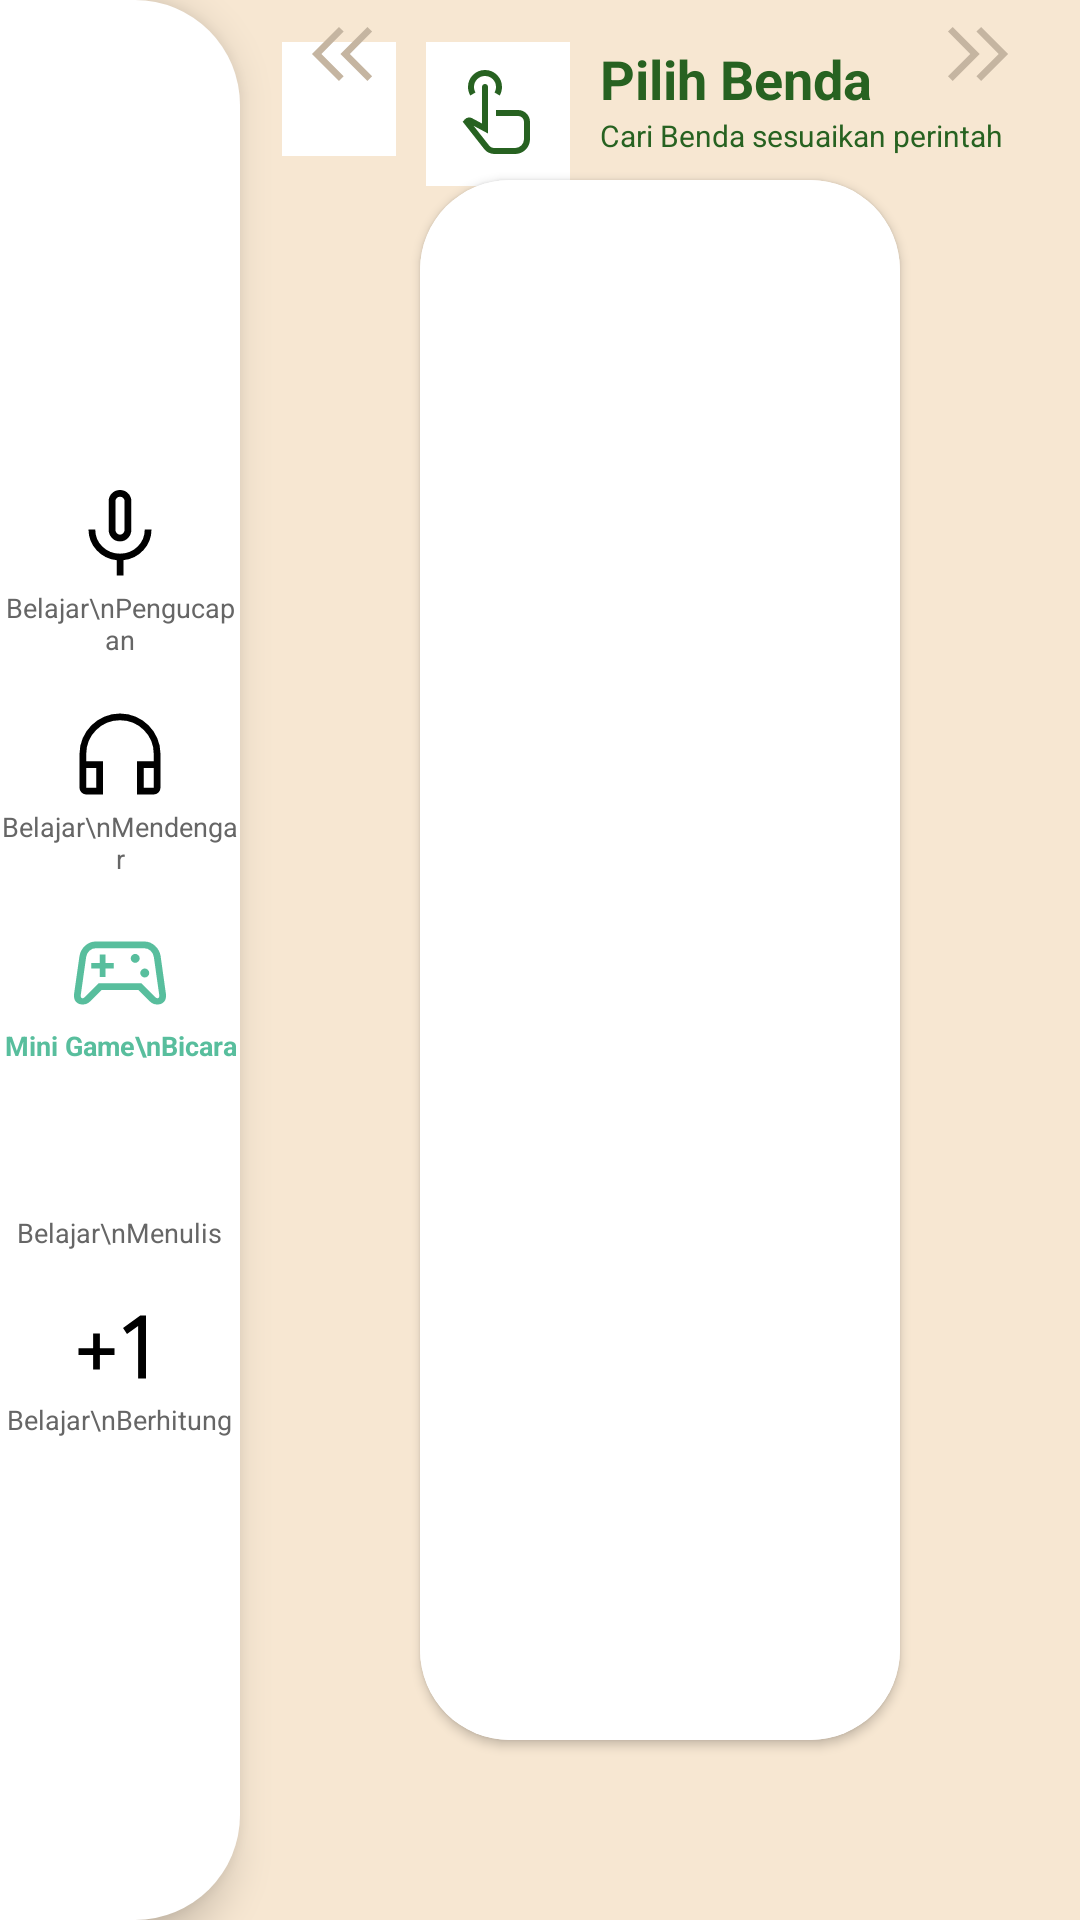

Screen size 1080x1920. Icon name, then its center in pixels as (x=x, y=y):
double right: (x=978, y=54)
headset: (x=120, y=754)
mic: (x=120, y=533)
